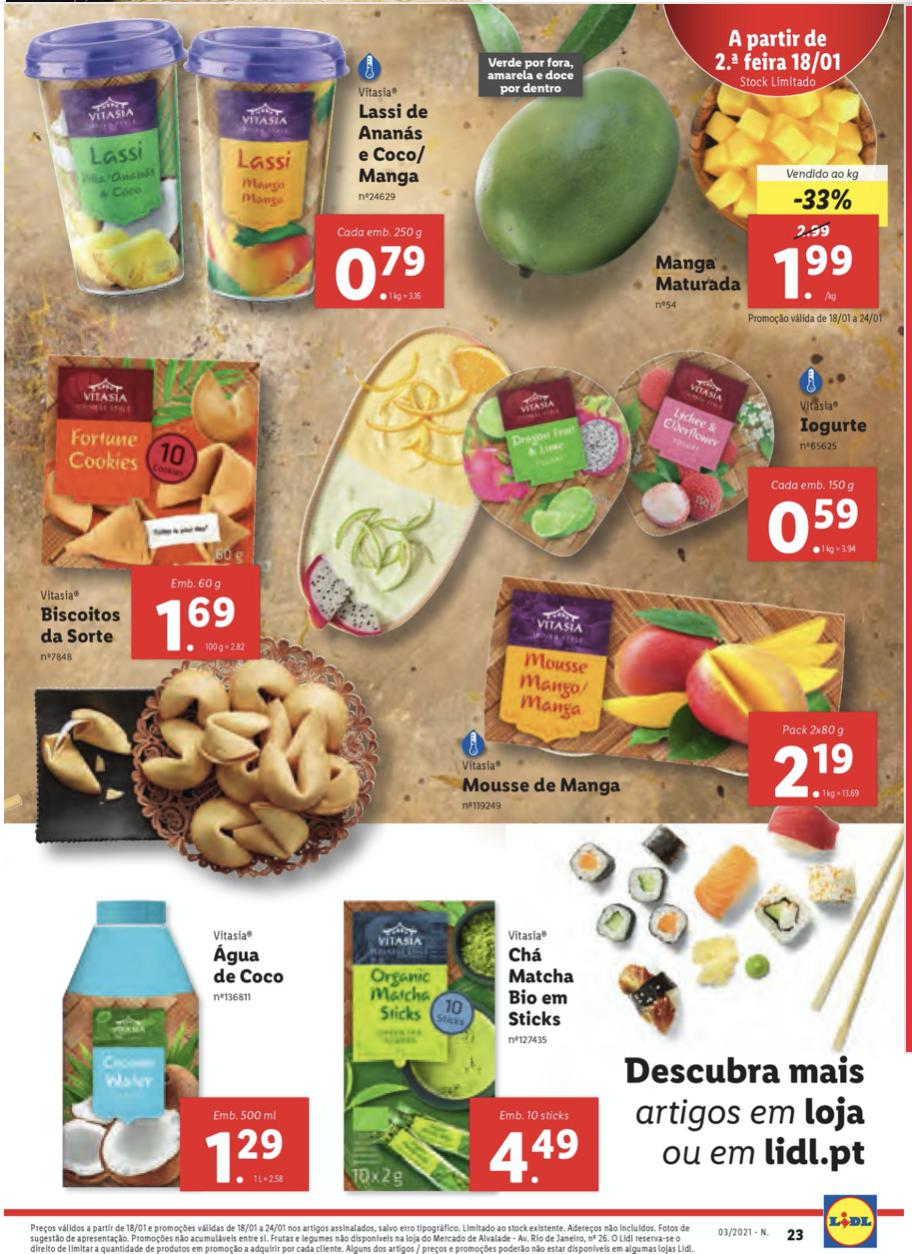name: (496, 942, 581, 1031), (350, 102, 434, 184), (456, 770, 623, 806), (649, 249, 746, 298), (204, 943, 290, 990), (38, 604, 123, 649), (790, 412, 874, 437)
price: (765, 490, 860, 559), (149, 595, 249, 660), (485, 1123, 584, 1188), (331, 242, 427, 306), (771, 737, 859, 803), (773, 243, 862, 306), (202, 1124, 288, 1187)
product: (16, 7, 457, 321), (448, 571, 884, 832), (448, 335, 891, 568), (332, 885, 610, 1204), (29, 342, 299, 670), (41, 890, 326, 1196), (638, 140, 891, 335)
